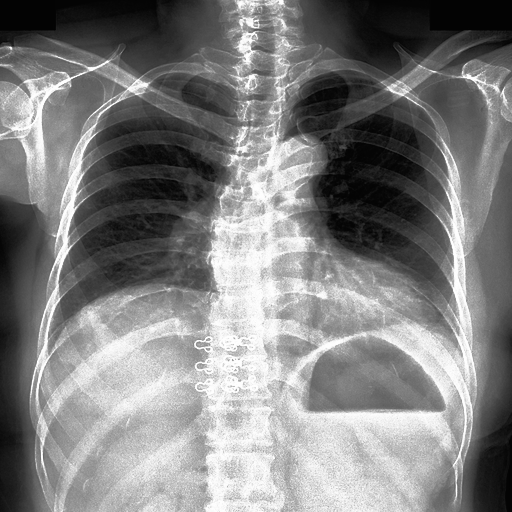Consolidation: (272, 132, 326, 193)
Nodule/Mass: (201, 243, 431, 329)
